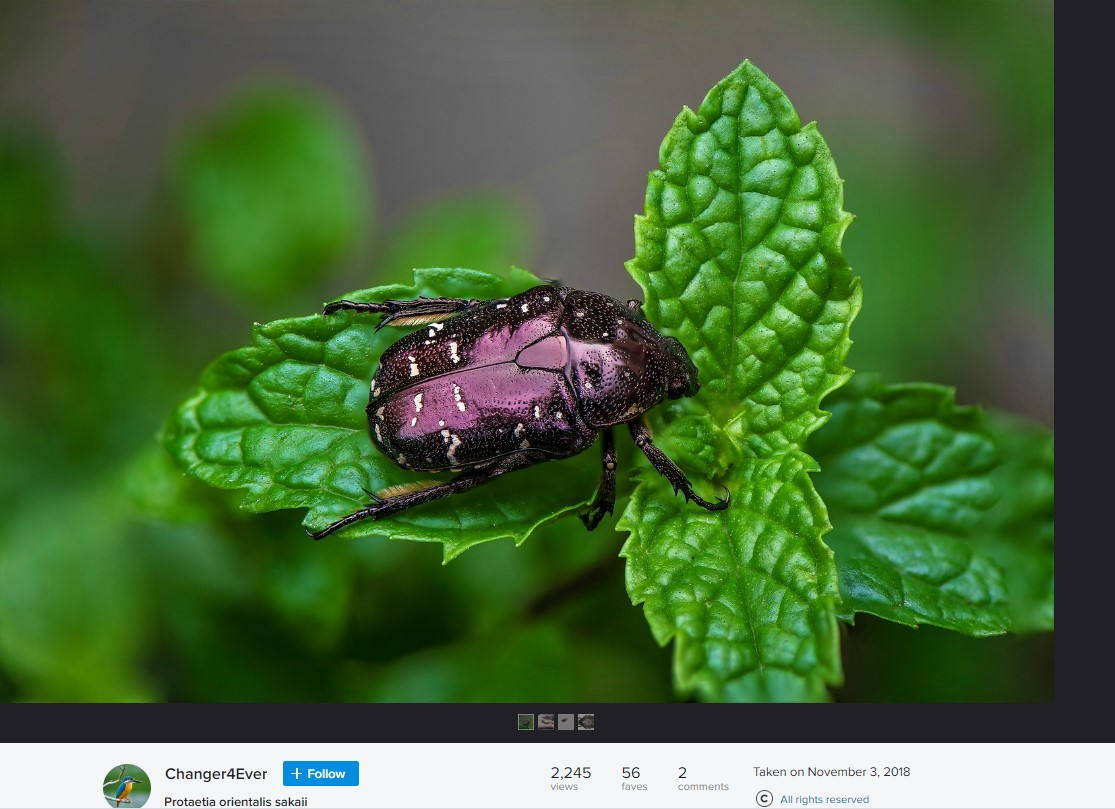Protaetia _orientalis: (304, 288, 735, 538)
